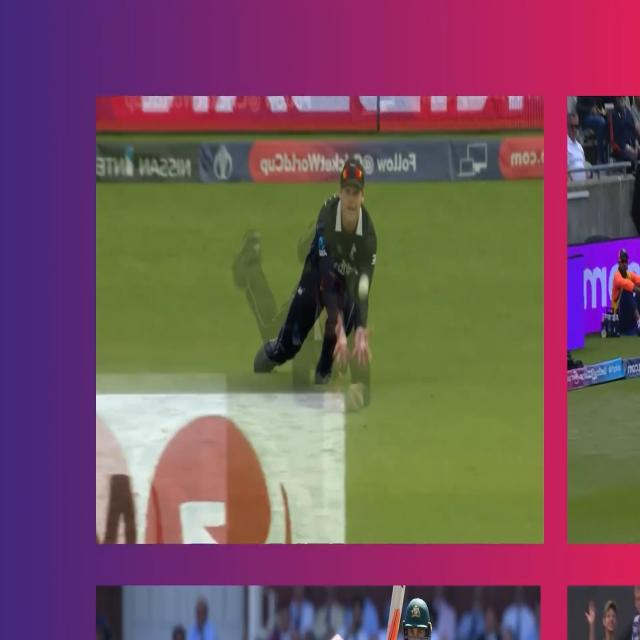ball: (354, 274, 372, 301)
